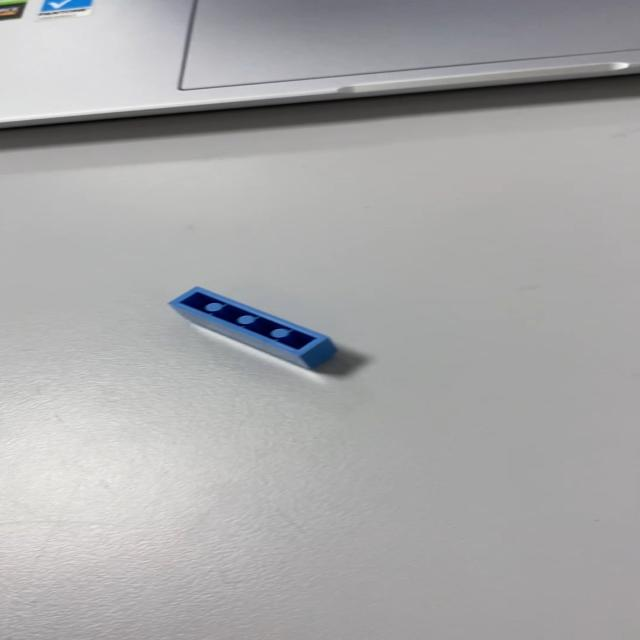C4x1x1: (166, 285, 338, 369)
